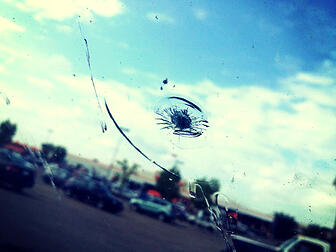bullseye: (147, 77, 233, 149)
scratch: (91, 83, 144, 169)
